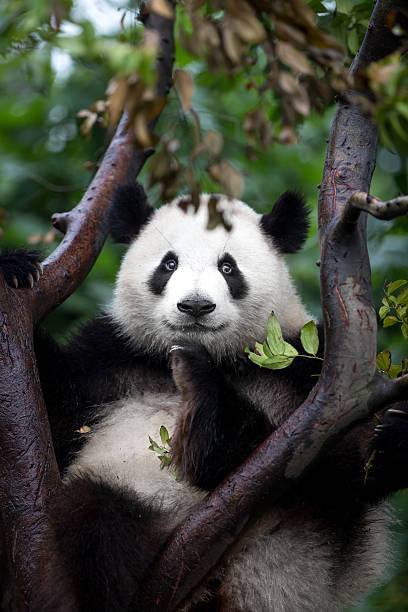panda: (86, 154, 326, 374)
